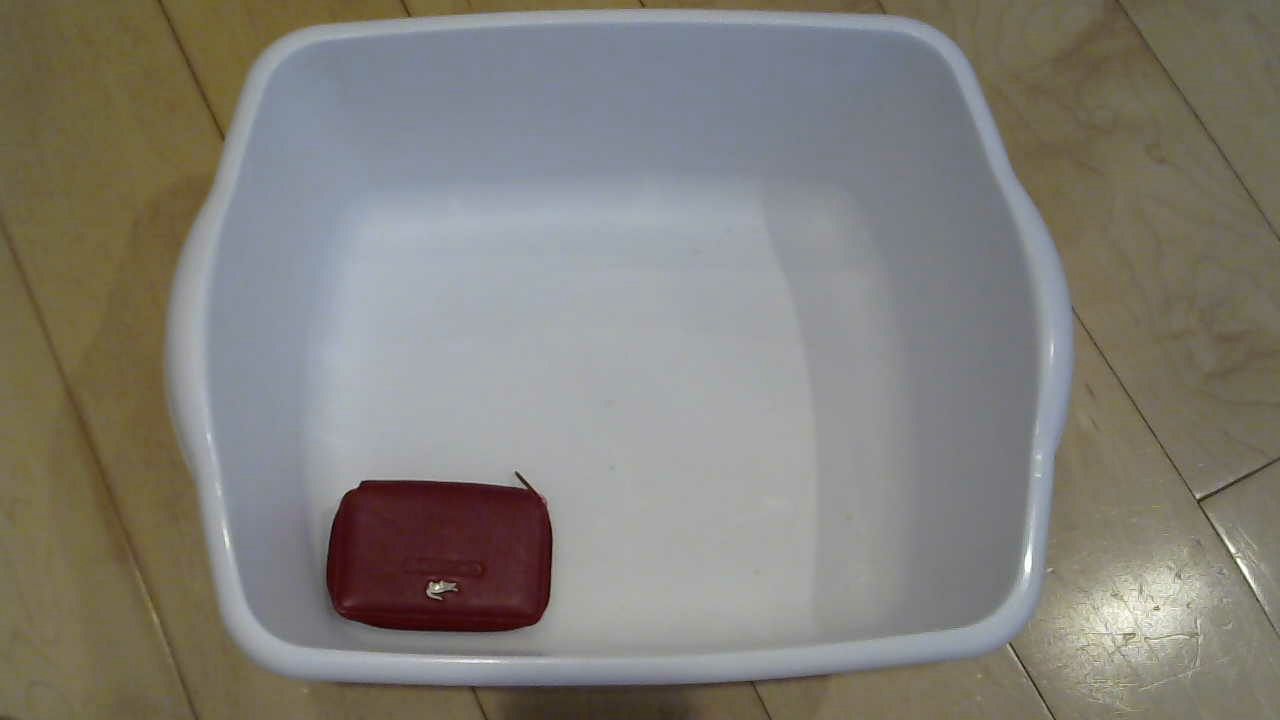wallet: (326, 486, 566, 641)
